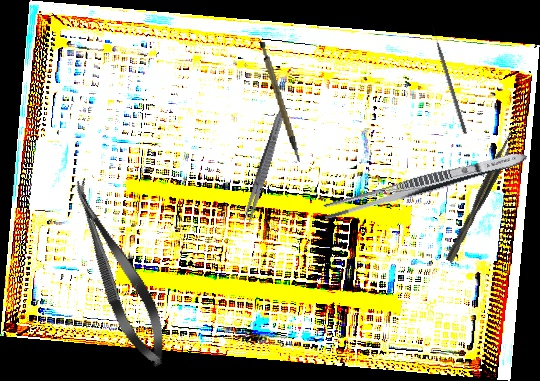Dressing Forceps: (320, 145, 530, 224), (240, 107, 288, 229)
Hook Surgical: (429, 24, 469, 135)
Micro Scissor: (58, 172, 179, 374)
Scalpel Handle: (257, 38, 301, 166)
Tissue Forceps: (441, 131, 520, 263)
